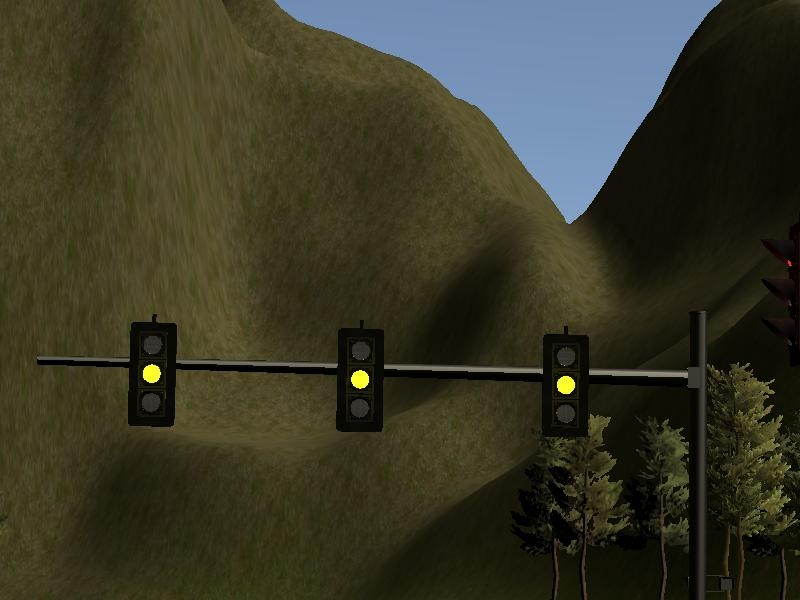YELLOW: (539, 330, 592, 436), (332, 325, 385, 431), (126, 319, 179, 425)
